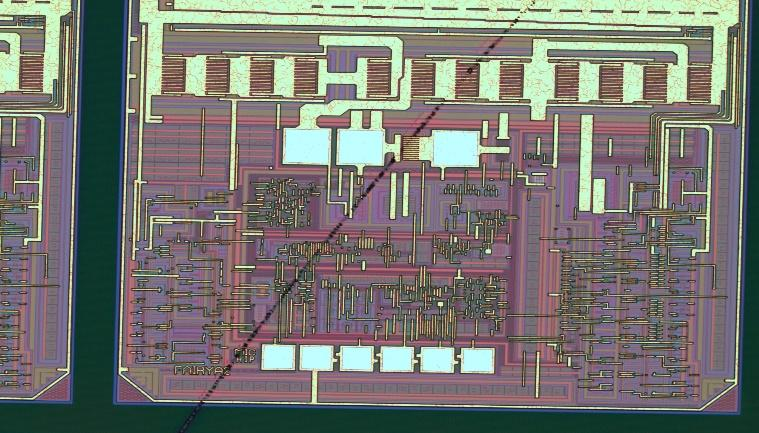SCRATCH: (168, 1, 547, 433)
